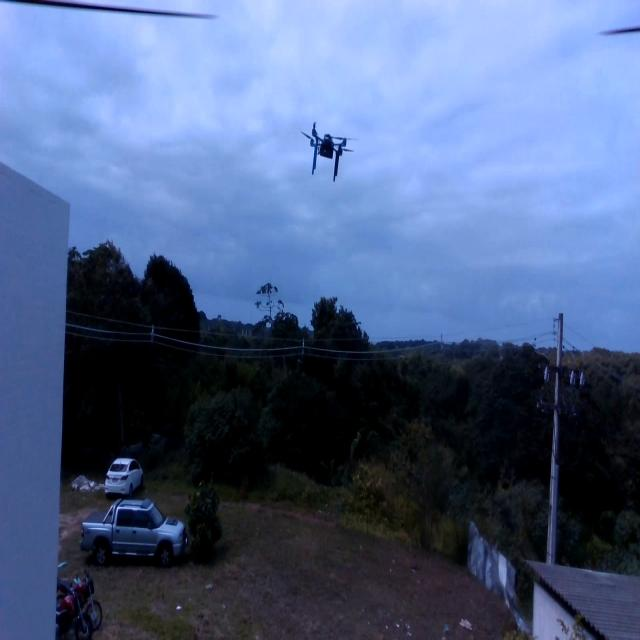-uav-: (291, 108, 367, 200)
